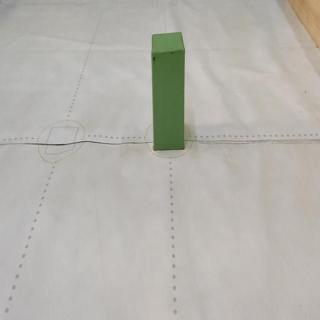greenbox: (152, 33, 185, 151)
